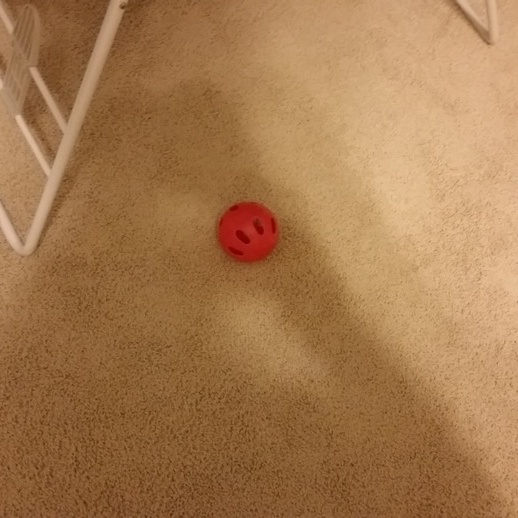redball: (213, 198, 283, 266)
